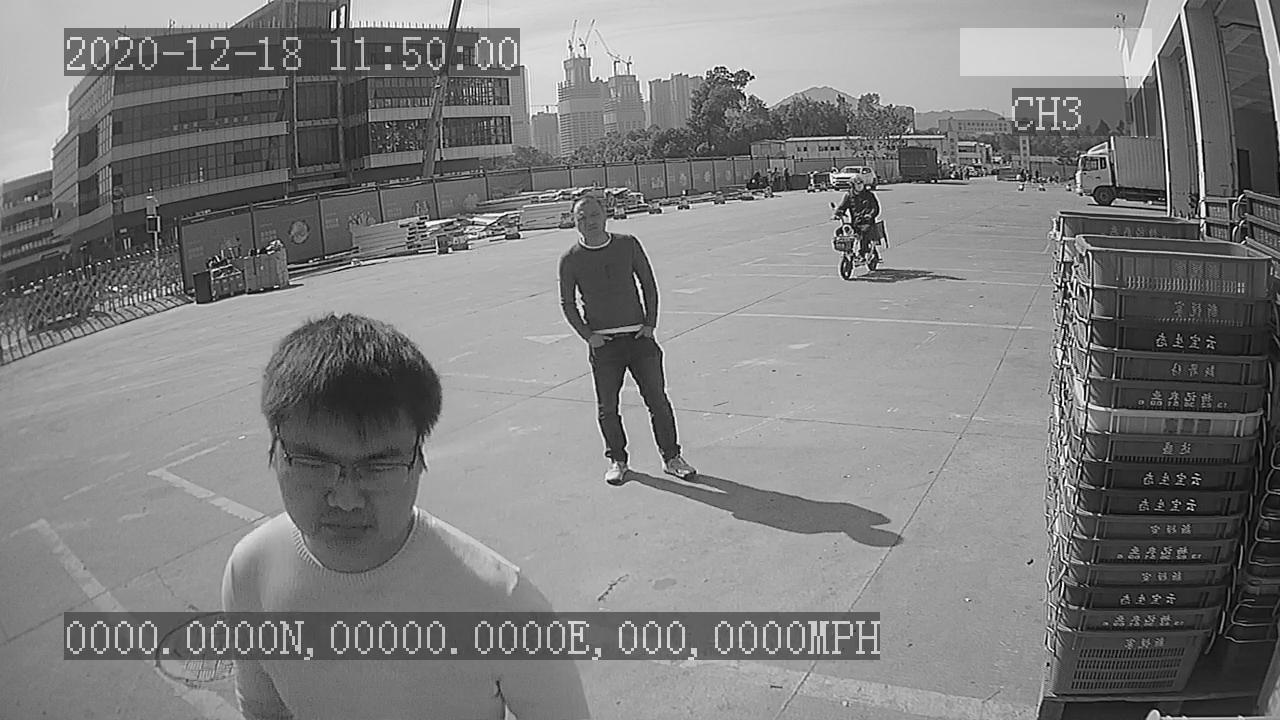person: (551, 192, 701, 488)
